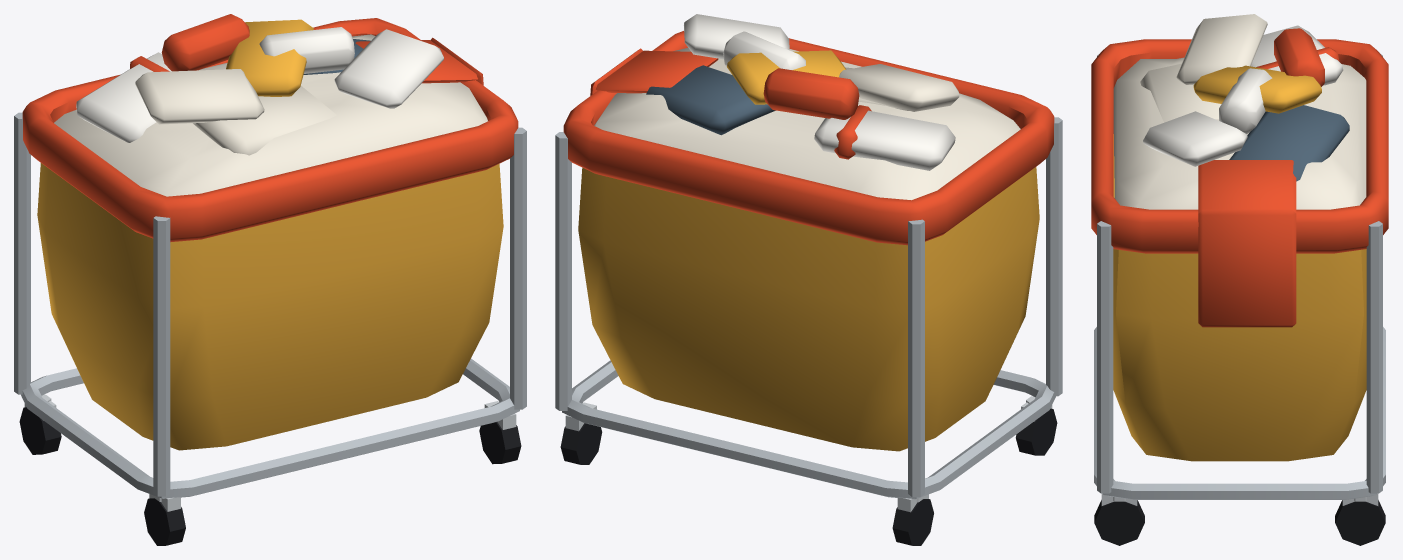
File: Lobby_LaundryCart.fbx
3 views of the same model, side by side, from view 1: azimuth 30°, elevation 25°; view 2: azimuth 150°, elevation 25°; view 3: azimuth 270°, elevation 25° (orthographic). The views are drawn at different scales.
Parts seen in each view (by area): view 1: Canvas, Towels1, Cuff, Frame, Towels2, Towels3, Casters, Towels4, Forks; view 2: Canvas, Cuff, Frame, Towels1, Towels2, Towels3, Towels5, Casters, Towels4, Forks; view 3: Canvas, Towels1, Towels3, Cuff, Frame, Towels2, Towels5, Casters, Towels4, Forks.
Boxes of the visible parts, <box> form: Canvas: <box>37,163,503,450</box>; Towels1: <box>54,34,487,196</box>; Cuff: <box>22,18,518,242</box>; Frame: <box>14,112,526,498</box>; Towels2: <box>76,27,443,142</box>; Towels3: <box>130,14,483,85</box>; Casters: <box>19,407,521,545</box>; Towels4: <box>226,19,313,96</box>; Forks: <box>24,394,516,511</box>; Canvas: <box>578,167,1039,451</box>; Cuff: <box>563,31,1054,245</box>; Frame: <box>555,117,1062,499</box>; Towels1: <box>594,48,1020,200</box>; Towels2: <box>683,14,955,170</box>; Towels3: <box>590,48,871,159</box>; Towels5: <box>646,65,775,135</box>; Casters: <box>560,408,1057,545</box>; Towels4: <box>727,50,846,104</box>; Forks: <box>565,396,1052,512</box>; Canvas: <box>1113,134,1366,461</box>; Towels1: <box>1113,14,1366,209</box>; Towels3: <box>1198,28,1339,327</box>; Cuff: <box>1091,39,1388,253</box>; Frame: <box>1094,53,1385,499</box>; Towels2: <box>1143,25,1343,166</box>; Towels5: <box>1229,105,1349,181</box>; Casters: <box>1094,500,1385,545</box>; Towels4: <box>1193,65,1321,113</box>; Forks: <box>1101,493,1378,505</box>.
Bounding box in the file's own units: 294 × 299 × 200.
